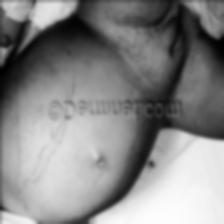Unclassified: (114, 21, 150, 83), (148, 66, 200, 92)
